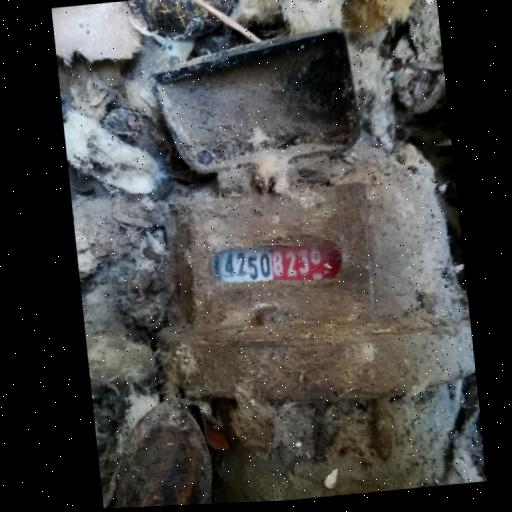0: (256, 248, 274, 281)
2: (282, 245, 300, 280), (234, 249, 249, 280)
3: (296, 244, 313, 280)
4: (218, 250, 238, 281)
5: (244, 248, 261, 281)
6: (308, 244, 325, 280)
8: (269, 246, 287, 281)
border_water_meter_number: (207, 234, 346, 291)
